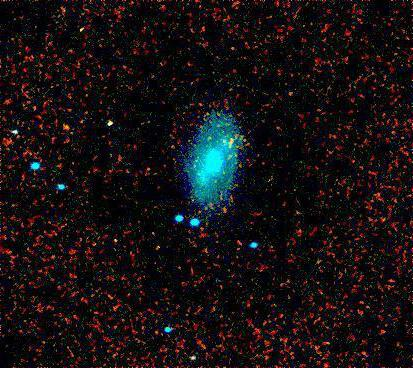star: (47, 110, 77, 140)
